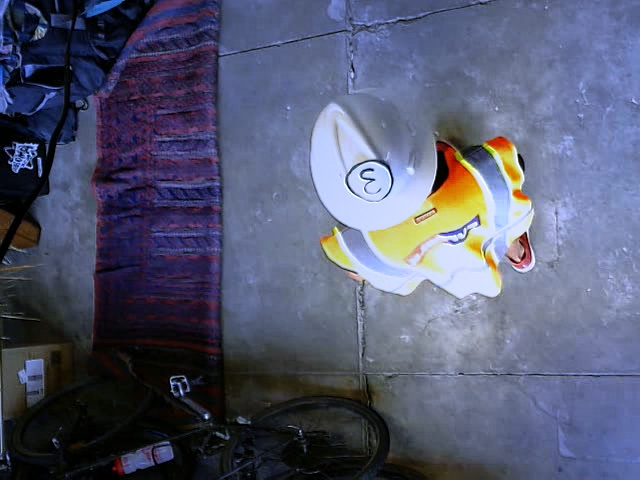three: (345, 160, 392, 203)
